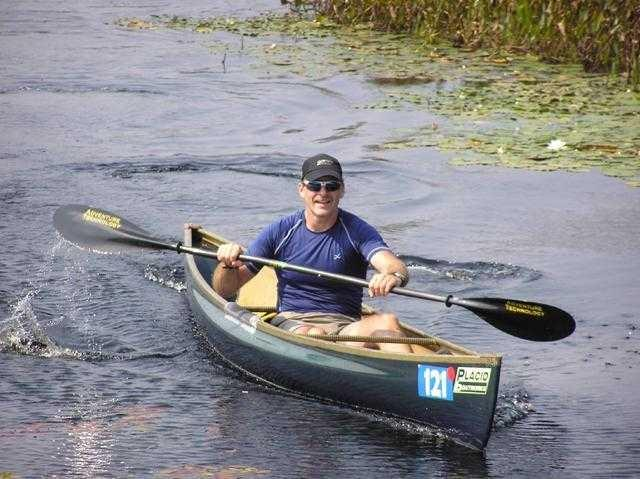kayak: (182, 228, 504, 449)
